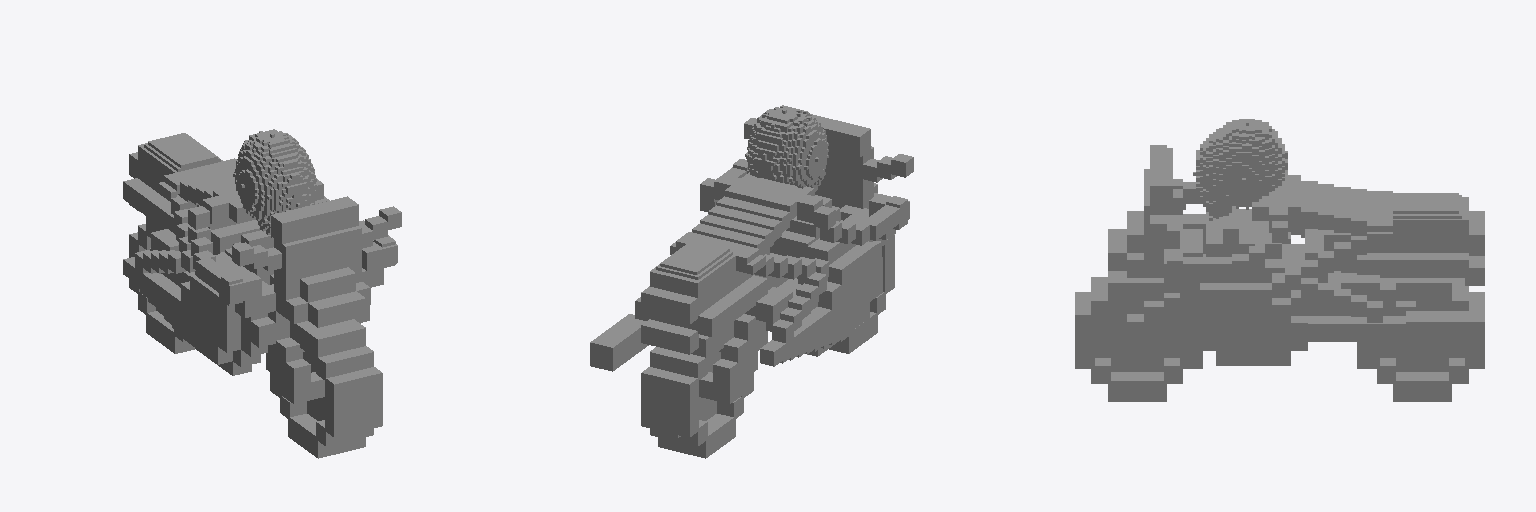
The model's file is Motor_ride_orange+red+aladdinsane3.obj.
3 views of the same model, side by side, from view 1: azimuth 30°, elevation 25°; view 2: azimuth 150°, elevation 25°; view 3: azimuth 270°, elevation 25° (orthographic).
Visible parts, largest first — view 1: Motor_ride_orange+red+aladdinsane3; view 2: Motor_ride_orange+red+aladdinsane3; view 3: Motor_ride_orange+red+aladdinsane3.
Boxes of the visible parts, box(x1,y1,x2,y2) form: Motor_ride_orange+red+aladdinsane3: box(123, 129, 401, 458); Motor_ride_orange+red+aladdinsane3: box(590, 105, 913, 458); Motor_ride_orange+red+aladdinsane3: box(1075, 119, 1484, 401).
Bounding box in the file's own units: 5.9 × 9 × 12.5.